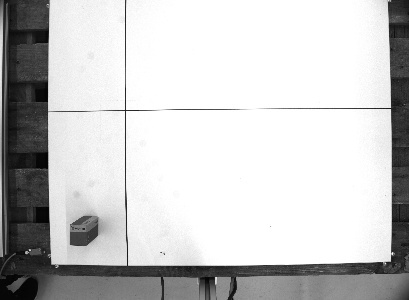b3: (67, 213, 100, 248)
